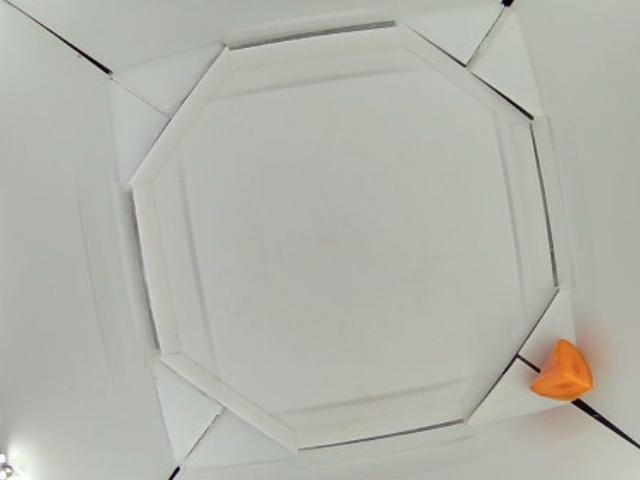Carrot: (529, 339, 592, 401)
